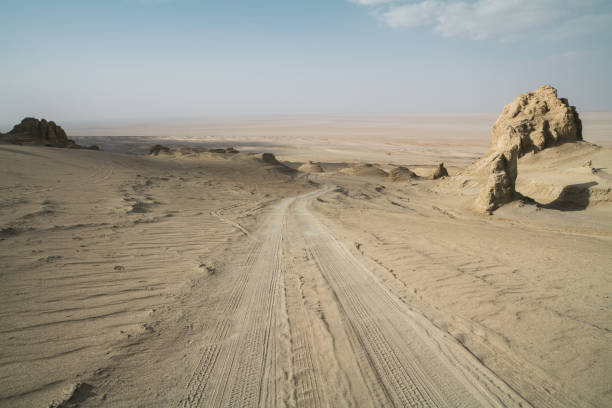vehicle_track: (178, 192, 529, 407), (296, 200, 527, 406), (178, 200, 288, 407), (177, 241, 260, 407)
